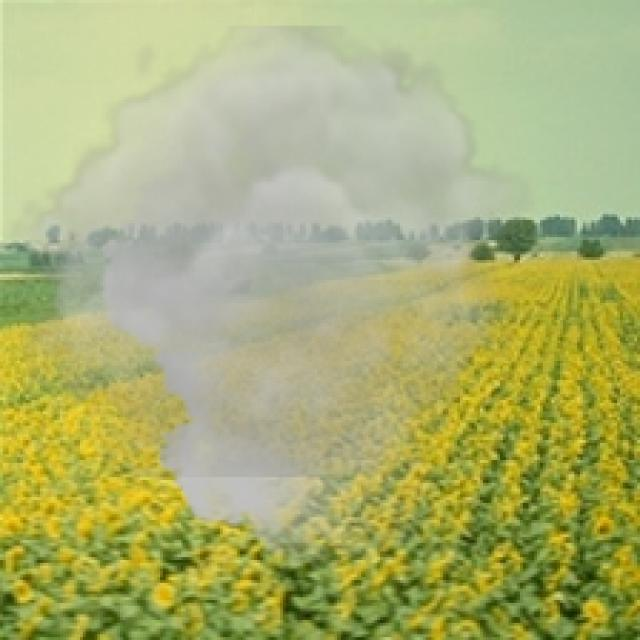smoke: (3, 26, 534, 568)
